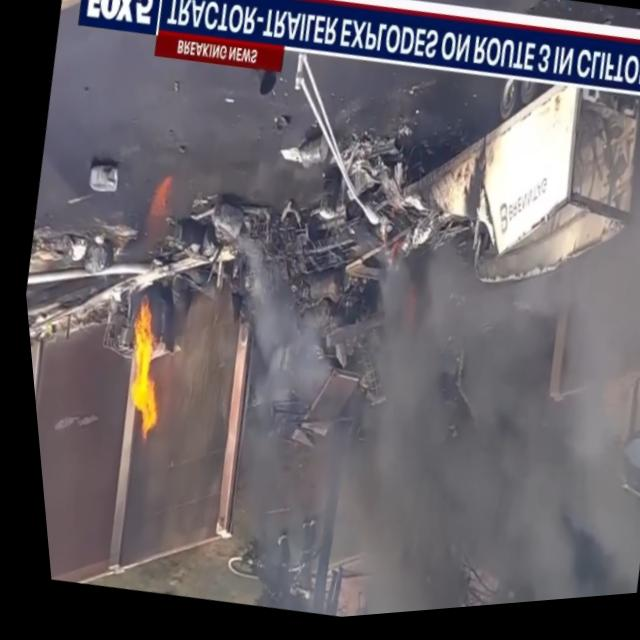Fire: (98, 295, 180, 453)
